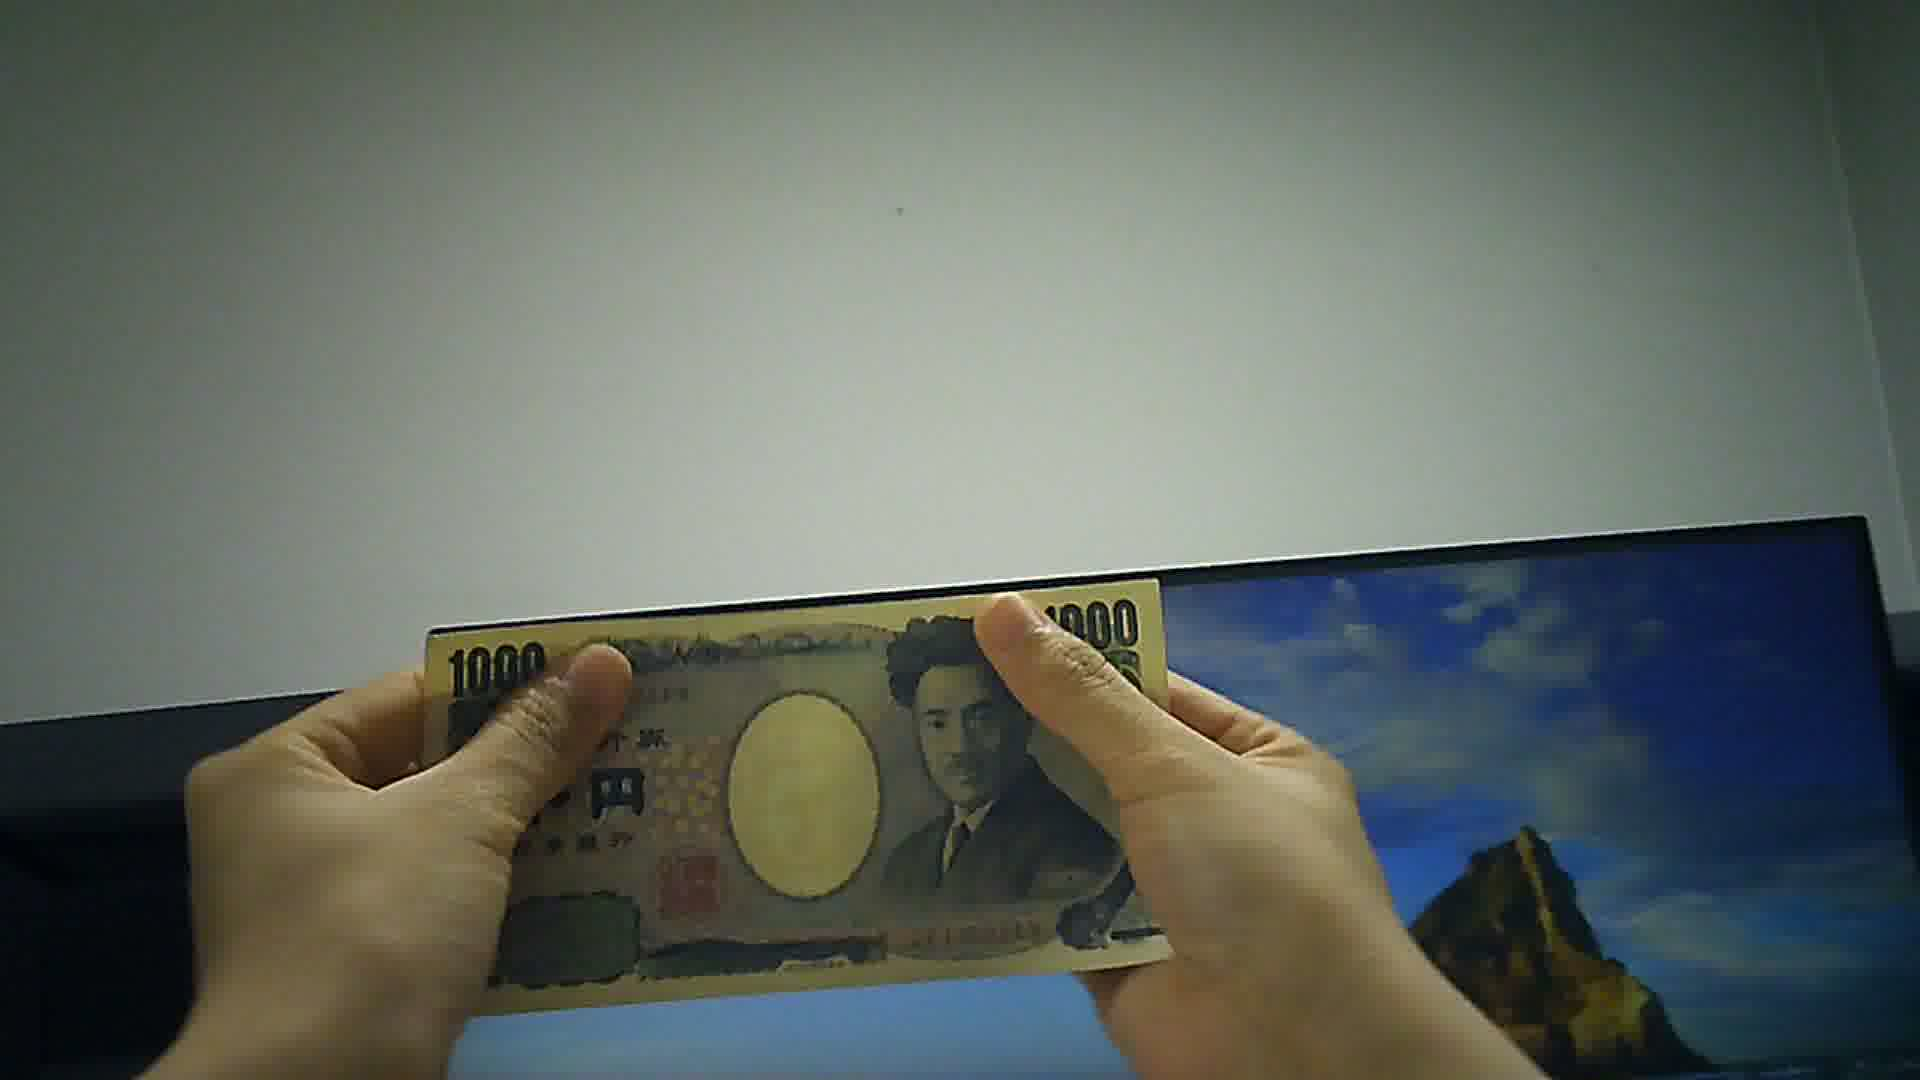1,000 Yen: (414, 564, 1193, 1001)
